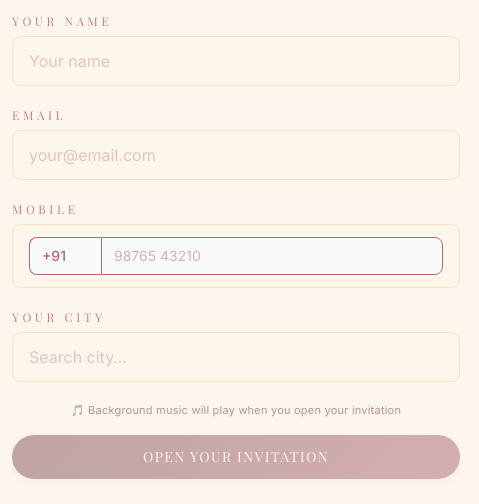
Test: FirstVisitForm › fills city input when suggestion is clicked
Type "ch" into the field with placeholder "Search city…" at (236, 357), box 12,332 -> 460,382
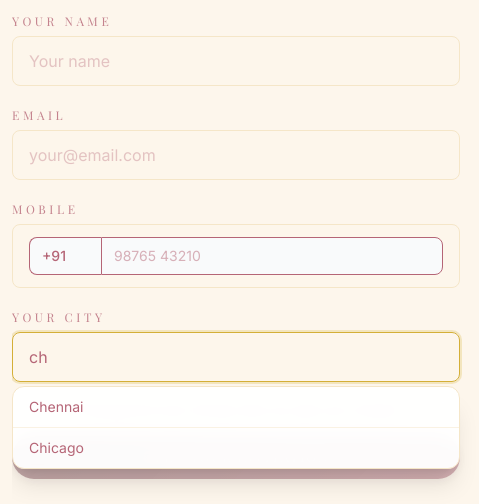
Expected: the button "Chennai" is shown
Press the mouse on the button "Chennai" at (56, 406), box 13,387 -> 459,427
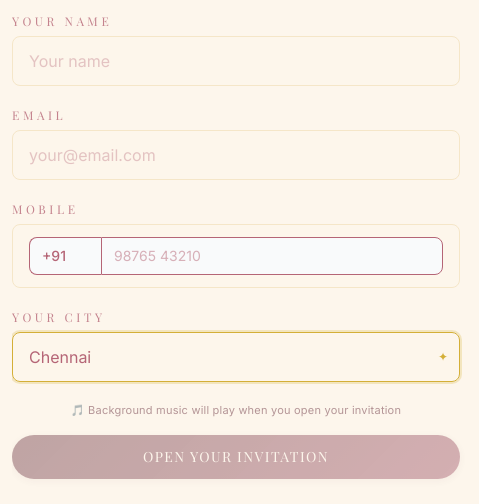
Expected: the field with placeholder "Search city…" holds "Chennai", 12,332 -> 460,382
